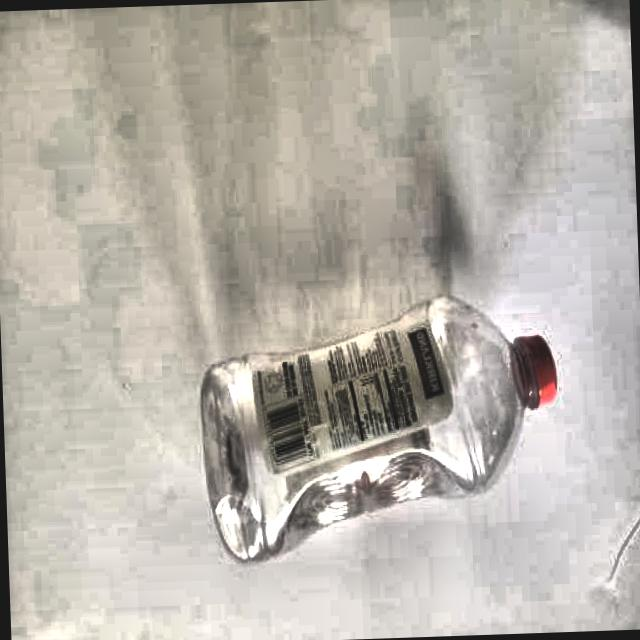plastic bottle: (200, 298, 557, 560)
